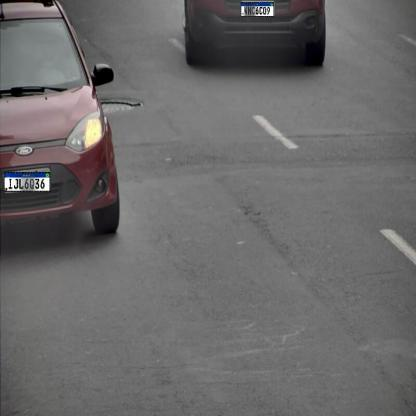PlacaM: (4, 172, 51, 192), (241, 2, 274, 17)
